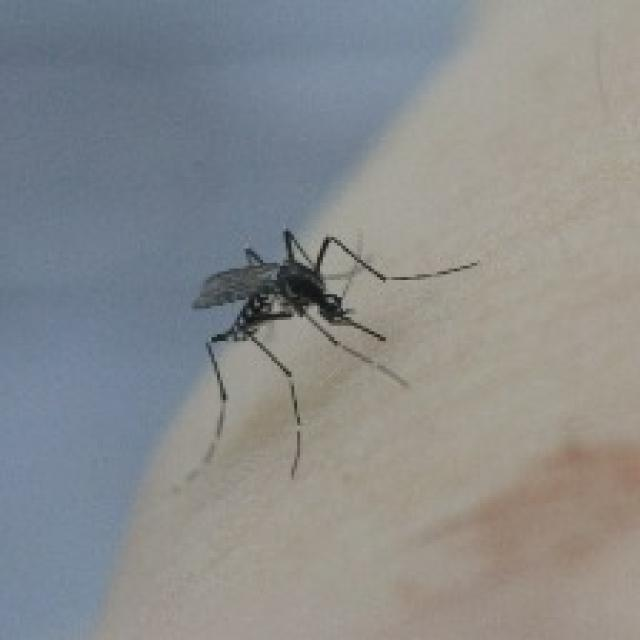aedes: (183, 223, 480, 480)
